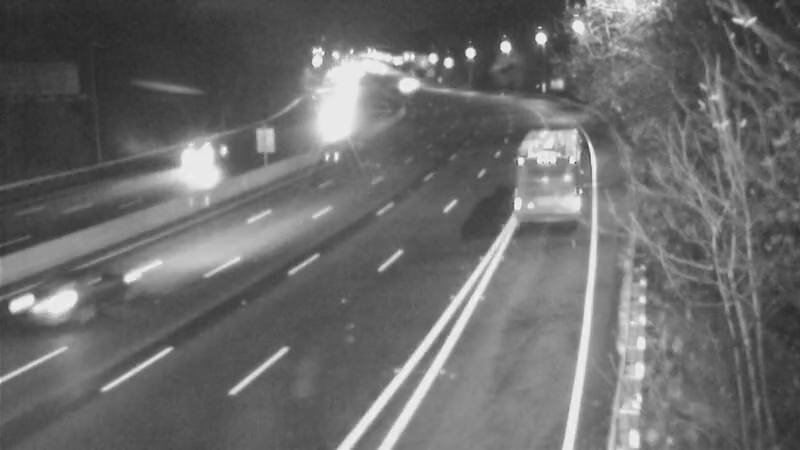vehicle: (1, 251, 104, 361), (503, 128, 583, 208), (159, 114, 239, 194)
